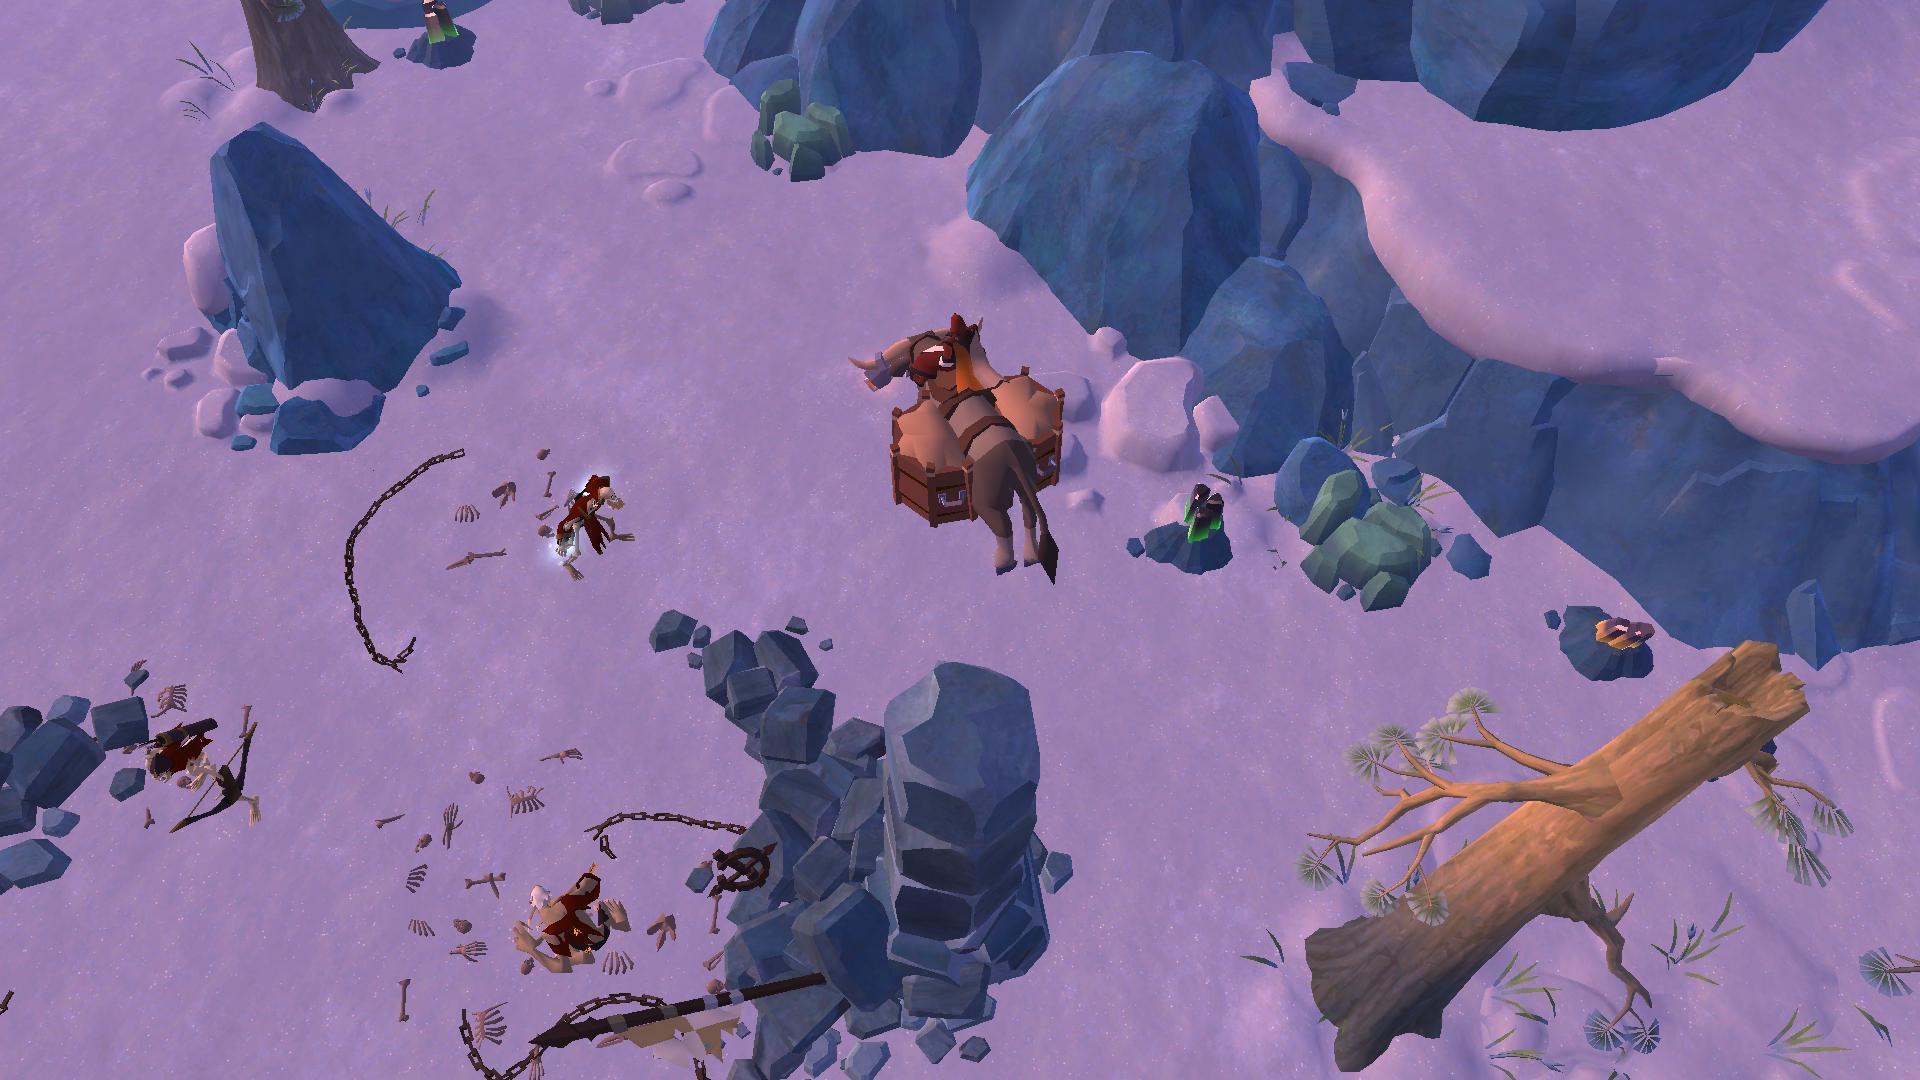enemy_factionUndead: (133, 716, 269, 832), (509, 870, 633, 981), (543, 472, 637, 574)
ore_t3: (1182, 485, 1233, 553), (418, 0, 459, 54)
rock_t3: (1287, 479, 1436, 604), (736, 71, 866, 181)
